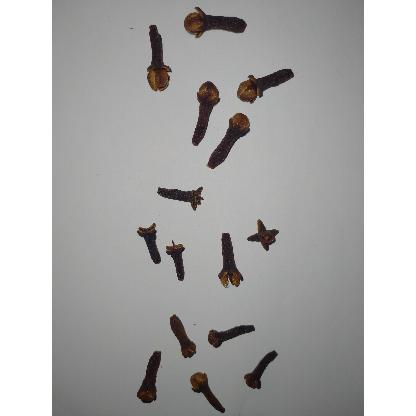baik: (207, 113, 251, 170), (235, 69, 294, 107), (183, 7, 247, 39), (145, 24, 173, 96), (191, 82, 221, 147)
buruk: (218, 233, 244, 289), (157, 188, 204, 211), (137, 223, 160, 265), (248, 221, 279, 252), (165, 242, 185, 282)
sedang: (189, 372, 225, 415), (136, 351, 162, 405), (244, 350, 278, 391), (170, 315, 197, 360), (208, 325, 255, 349)
